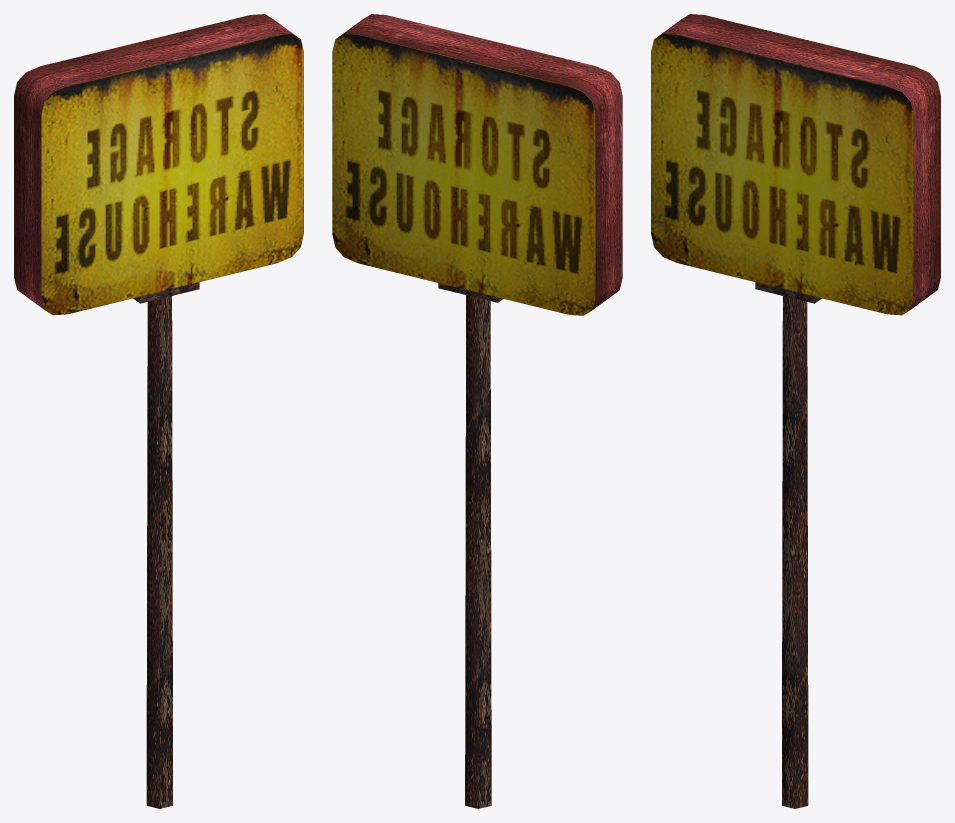
Rendered from wrhs_shortpole.fbx.
3 renders of one model, left to right at view 1: azimuth 30°, elevation 25°; view 2: azimuth 150°, elevation 25°; view 3: azimuth 330°, elevation 25°, orthographic.
Parts seen in each view (by area): view 1: mesh_0; view 2: mesh_0; view 3: mesh_0.
Part boxes in pixels (x1,y1,x2,y2): mesh_0: [14, 14, 303, 808]; mesh_0: [332, 14, 622, 808]; mesh_0: [651, 14, 940, 808].
Bounding box in the file's own units: 221 × 603 × 39.57.
1 material, 1 textured.
